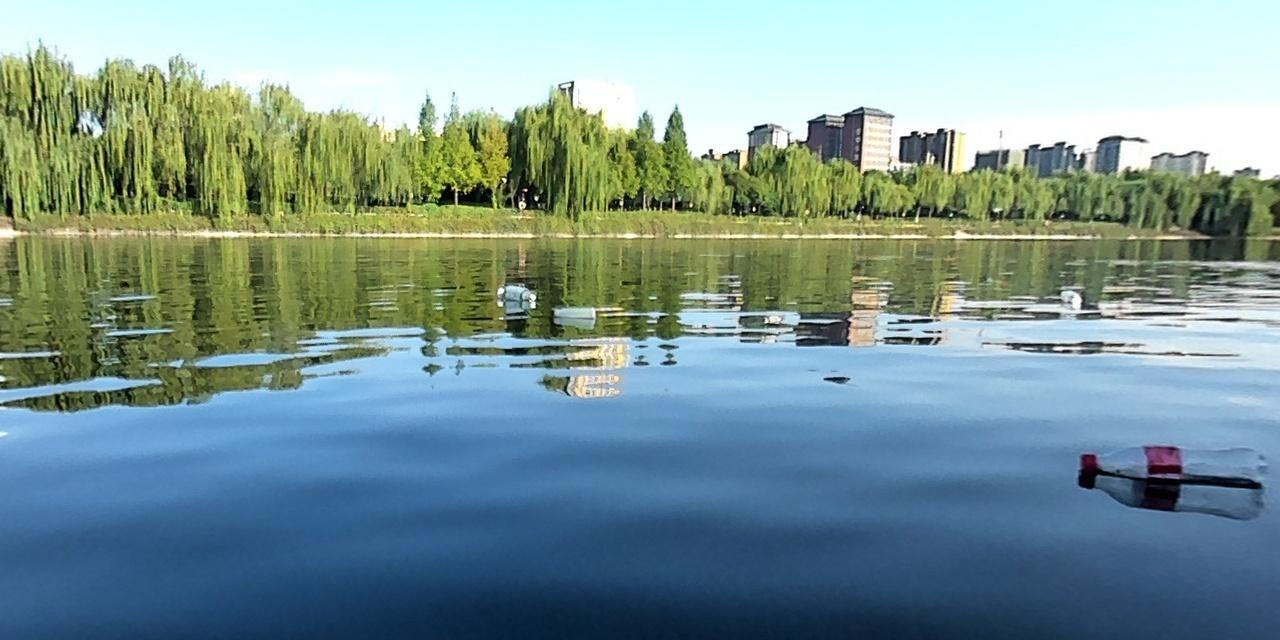bottle: (1072, 437, 1273, 494), (494, 283, 539, 303), (551, 304, 599, 322)
